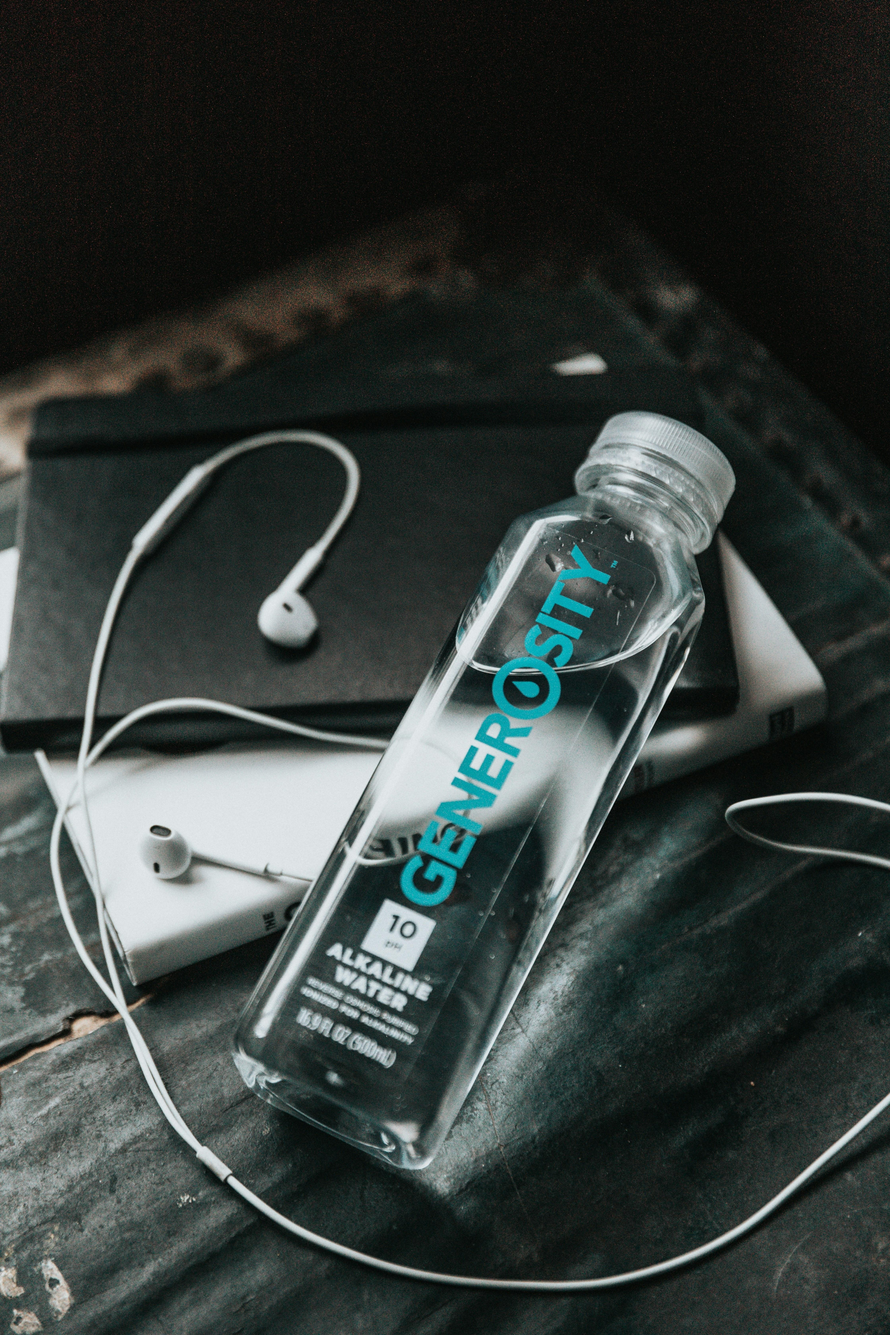Bottle-Detection: (187, 322, 785, 1210)
